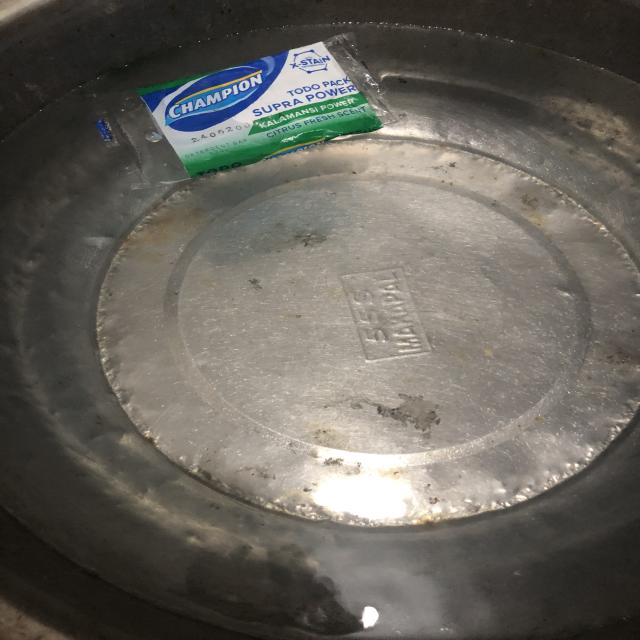Plastic Wrapper: (100, 38, 394, 184)
